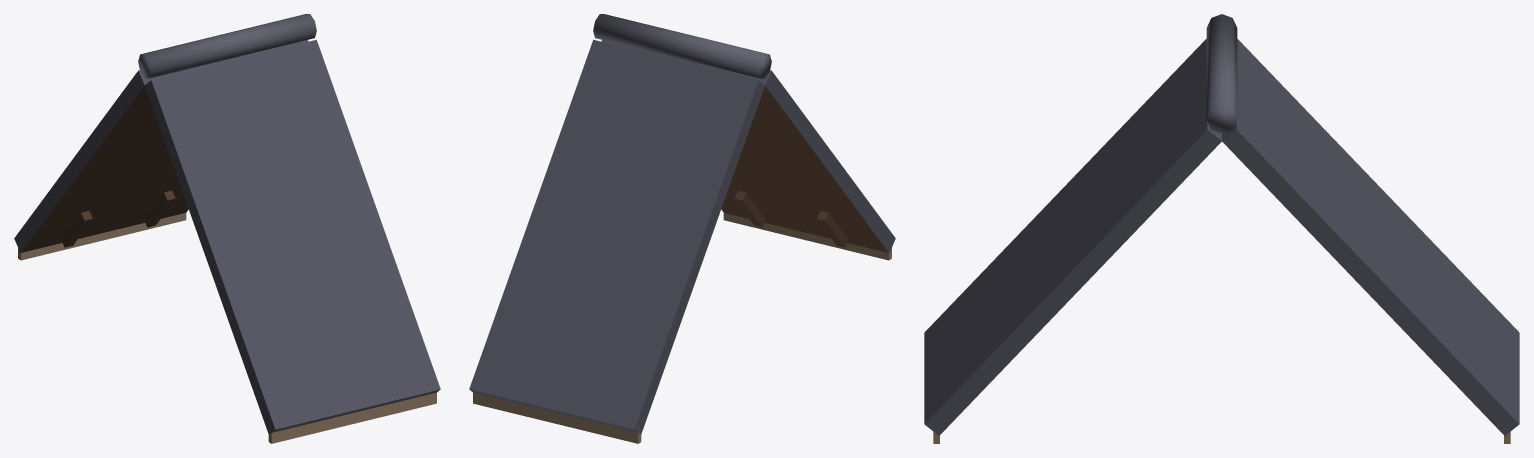
Rendered from kit_clapboard_slate_w2.glb.
3 views of the same model, side by side, from view 1: azimuth 30°, elevation 25°; view 2: azimuth 150°, elevation 25°; view 3: azimuth 270°, elevation 25° (orthographic). The views are drawn at different scales.
Visible parts, largest first — view 1: kit_clapboard_slate_w2; view 2: kit_clapboard_slate_w2; view 3: kit_clapboard_slate_w2.
Boxes of the visible parts, <box> form: kit_clapboard_slate_w2: <box>14,14,440,443</box>; kit_clapboard_slate_w2: <box>469,14,895,443</box>; kit_clapboard_slate_w2: <box>924,14,1519,443</box>.
Bounding box in the file's own units: 1 × 1.72 × 2.74.
